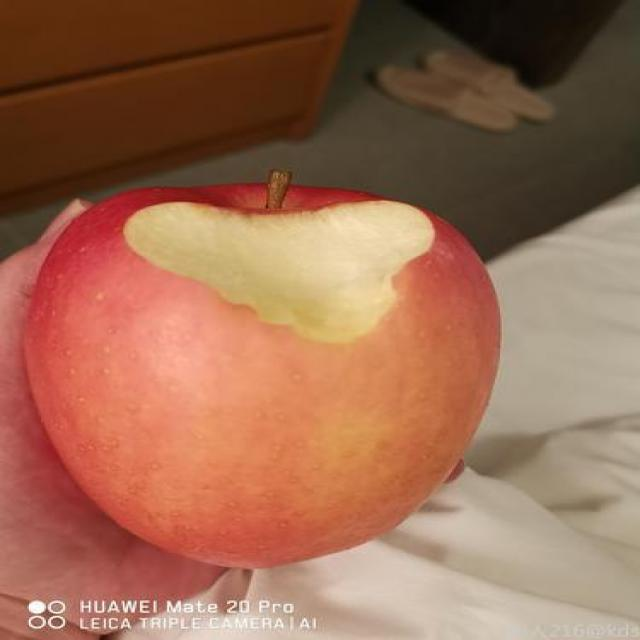Rotten: (54, 183, 480, 548)
